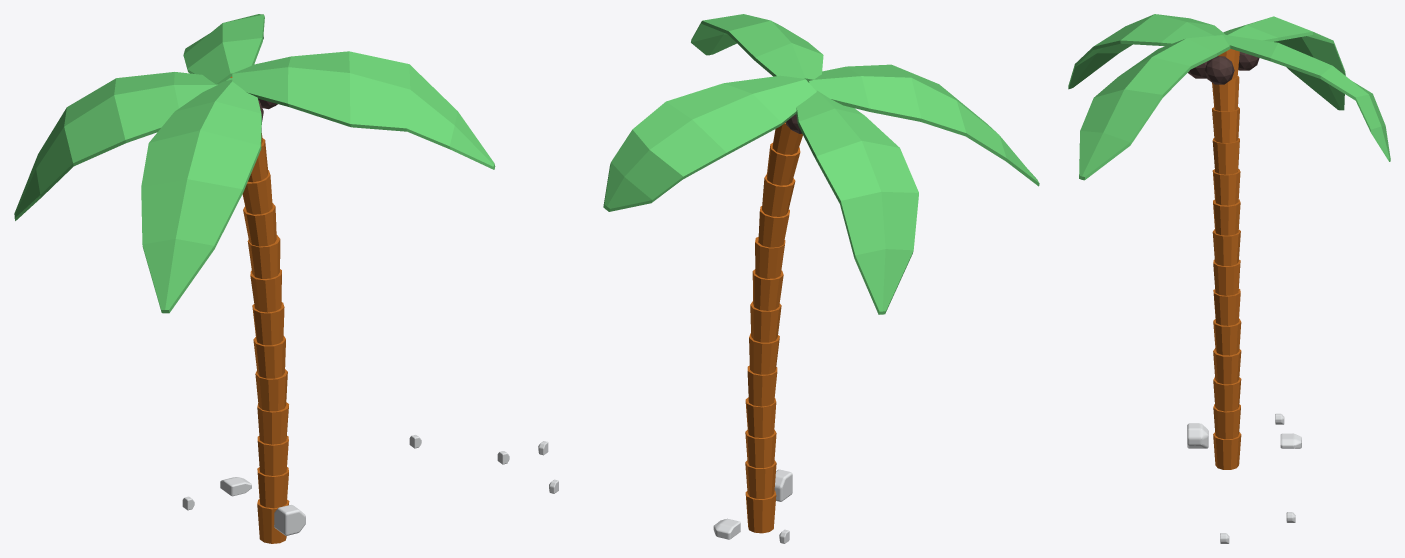
Rendered from palm.glb.
3 views of the same model, side by side, from view 1: azimuth 30°, elevation 25°; view 2: azimuth 150°, elevation 25°; view 3: azimuth 270°, elevation 25° (orthographic). The views are drawn at different scales.
Parts seen in each view (by area): view 1: Cylinder.012, Cube.002; view 2: Cylinder.012; view 3: Cylinder.012, Cube.002.
Part boxes in pixels (<box>): Cylinder.012: <box>14,14,495,543</box>; Cube.002: <box>274,505,305,535</box>; Cylinder.012: <box>603,14,1039,533</box>; Cylinder.012: <box>1068,14,1390,469</box>; Cube.002: <box>1187,423,1208,448</box>.
Bounding box in the file's own units: 4.77 × 5.15 × 3.56.
